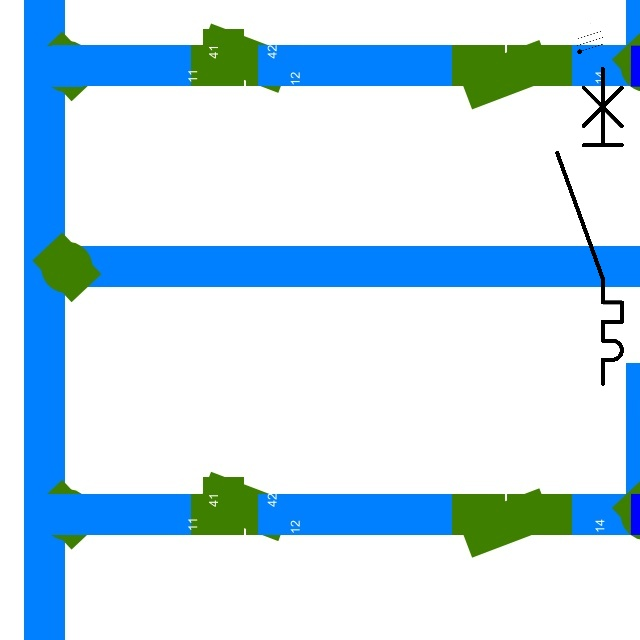interruptor_termomagnetico: (549, 60, 630, 391)
